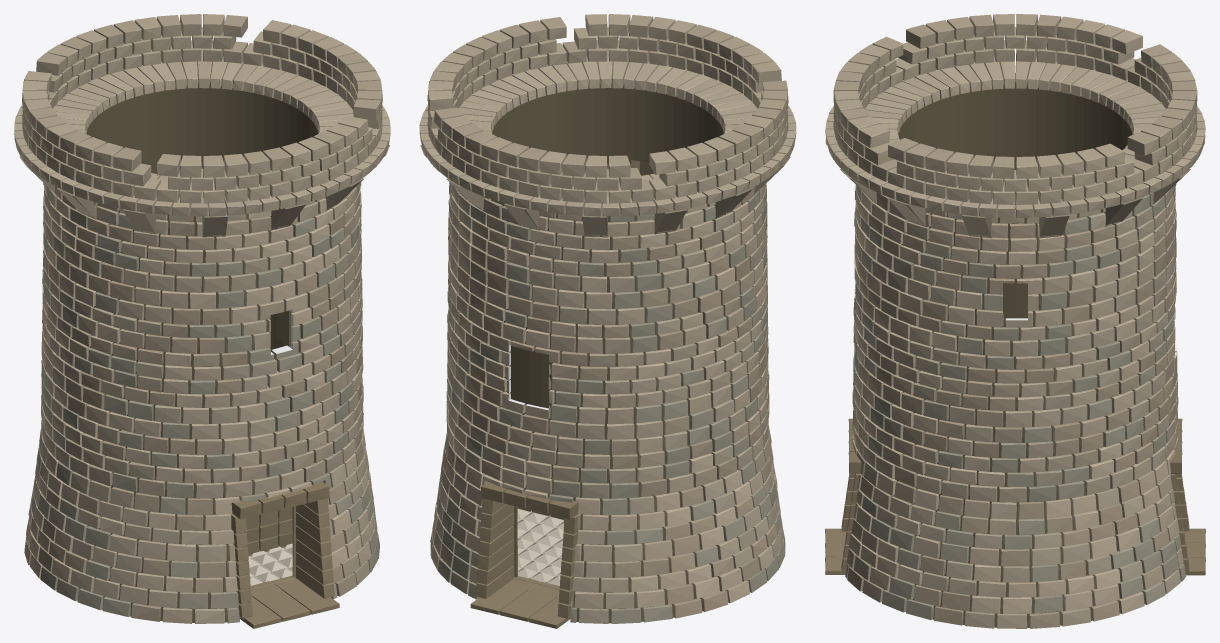
File: Tour_V3_LOD1.fbx
3 renders of one model, left to right at view 1: azimuth 30°, elevation 25°; view 2: azimuth 150°, elevation 25°; view 3: azimuth 270°, elevation 25°, orthographic.
Visible parts, largest first — view 1: V3_Distance1_V3_Fut_Granit_Exterieur, V3_Distance1_V3_Couronnement_Consoles, V3_Distance1_V3_Chaux_Coeur_Murs, V3_Distance1_V3_Embrasures_Linteaux_Seuils, V3_Distance1_V3_Retours_Pierres, V3_Distance1_V3_Dalles_Patine; view 2: V3_Distance1_V3_Fut_Granit_Exterieur, V3_Distance1_V3_Couronnement_Consoles, V3_Distance1_V3_Chaux_Coeur_Murs, V3_Distance1_V3_Embrasures_Linteaux_Seuils, V3_Distance1_V3_Dalles_Patine; view 3: V3_Distance1_V3_Fut_Granit_Exterieur, V3_Distance1_V3_Couronnement_Consoles, V3_Distance1_V3_Chaux_Coeur_Murs, V3_Distance1_V3_Embrasures_Linteaux_Seuils.
Part boxes in pixels (box(x1,y1,x2,y2)): V3_Distance1_V3_Fut_Granit_Exterieur: box(24, 182, 379, 623); V3_Distance1_V3_Couronnement_Consoles: box(14, 14, 390, 237); V3_Distance1_V3_Chaux_Coeur_Murs: box(59, 73, 331, 622); V3_Distance1_V3_Embrasures_Linteaux_Seuils: box(231, 481, 339, 628); V3_Distance1_V3_Retours_Pierres: box(246, 507, 292, 555); V3_Distance1_V3_Dalles_Patine: box(248, 543, 292, 585); V3_Distance1_V3_Fut_Granit_Exterieur: box(430, 182, 785, 623); V3_Distance1_V3_Couronnement_Consoles: box(419, 14, 796, 237); V3_Distance1_V3_Chaux_Coeur_Murs: box(469, 73, 749, 623); V3_Distance1_V3_Embrasures_Linteaux_Seuils: box(470, 482, 578, 628); V3_Distance1_V3_Dalles_Patine: box(517, 508, 563, 585); V3_Distance1_V3_Fut_Granit_Exterieur: box(845, 72, 1186, 628); V3_Distance1_V3_Couronnement_Consoles: box(825, 14, 1205, 238); V3_Distance1_V3_Chaux_Coeur_Murs: box(876, 73, 1150, 627); V3_Distance1_V3_Embrasures_Linteaux_Seuils: box(825, 418, 1205, 575).
Size of the model in its own units: 900 by 1214 by 900.
